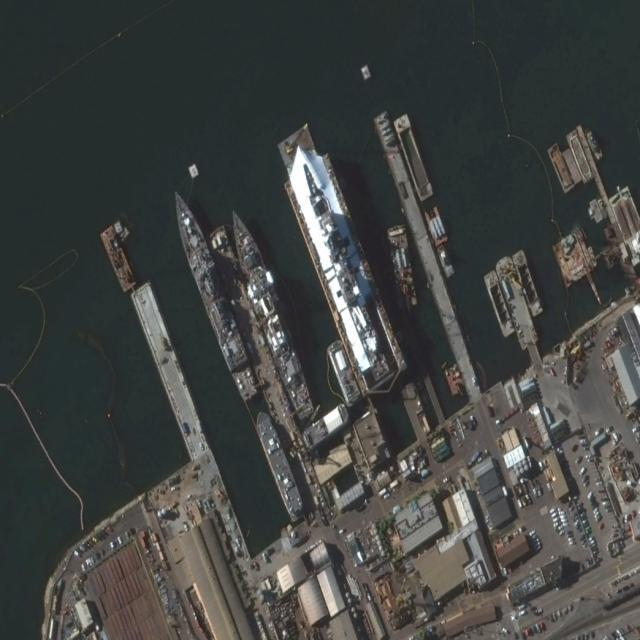Other Ship: (296, 156, 393, 388)
Other Warship: (219, 199, 320, 426), (161, 183, 263, 406), (253, 406, 304, 519)
